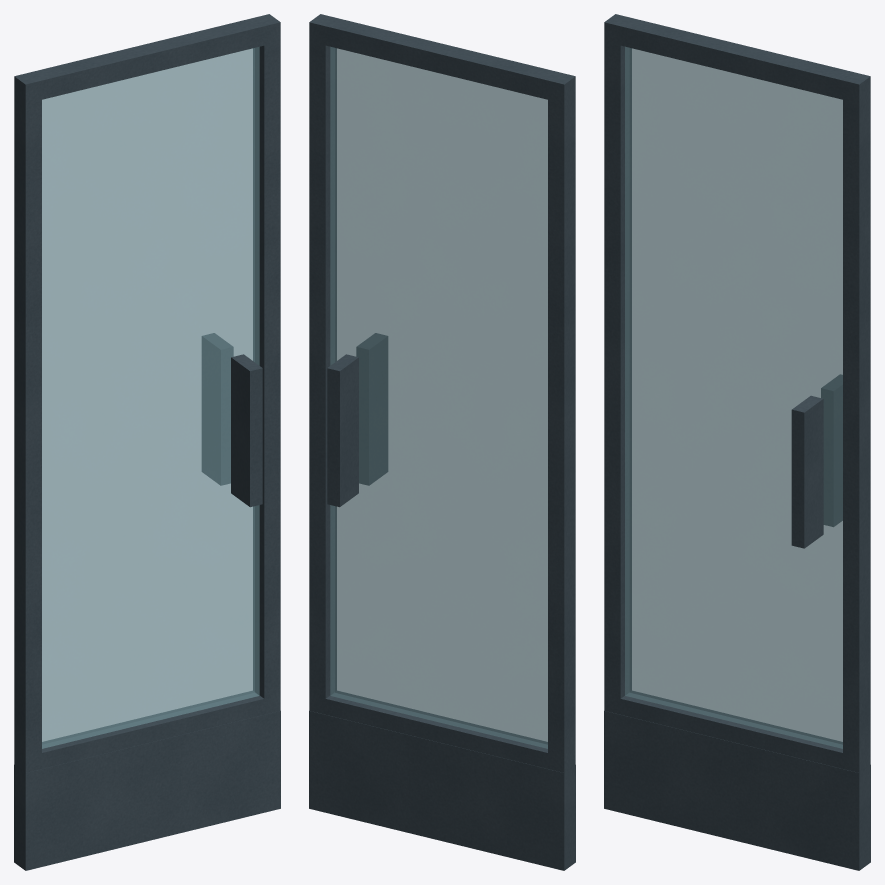
Rendered from PZ_GCR_13_DoorLeaf_Left_Hinge.glb.
3 views of the same model, side by side, from view 1: azimuth 30°, elevation 25°; view 2: azimuth 150°, elevation 25°; view 3: azimuth 330°, elevation 25° (orthographic).
Visible parts, largest first — view 1: DoorLeaf_Left_Hinge__Door_Leaf_Glass, DoorLeaf_Left_Hinge__Door_Leaf_Stiles, DoorLeaf_Left_Hinge__Door_Leaf_Kickplate, DoorLeaf_Left_Hinge__Door_Leaf_Rails, DoorLeaf_Left_Hinge__Door_Pull_Handle_Front, DoorLeaf_Left_Hinge__Door_Pull_Handle_Back; view 2: DoorLeaf_Left_Hinge__Door_Leaf_Glass, DoorLeaf_Left_Hinge__Door_Leaf_Stiles, DoorLeaf_Left_Hinge__Door_Leaf_Kickplate, DoorLeaf_Left_Hinge__Door_Leaf_Rails, DoorLeaf_Left_Hinge__Door_Pull_Handle_Back, DoorLeaf_Left_Hinge__Door_Pull_Handle_Front; view 3: DoorLeaf_Left_Hinge__Door_Leaf_Glass, DoorLeaf_Left_Hinge__Door_Leaf_Stiles, DoorLeaf_Left_Hinge__Door_Leaf_Kickplate, DoorLeaf_Left_Hinge__Door_Leaf_Rails, DoorLeaf_Left_Hinge__Door_Pull_Handle_Front, DoorLeaf_Left_Hinge__Door_Pull_Handle_Back.
Part boxes in pixels (bbox=[...]): DoorLeaf_Left_Hinge__Door_Leaf_Glass: bbox=[42, 46, 259, 748]; DoorLeaf_Left_Hinge__Door_Leaf_Stiles: bbox=[14, 14, 280, 870]; DoorLeaf_Left_Hinge__Door_Leaf_Kickplate: bbox=[14, 710, 280, 870]; DoorLeaf_Left_Hinge__Door_Leaf_Rails: bbox=[30, 18, 264, 768]; DoorLeaf_Left_Hinge__Door_Pull_Handle_Front: bbox=[231, 354, 262, 507]; DoorLeaf_Left_Hinge__Door_Pull_Handle_Back: bbox=[202, 333, 233, 485]; DoorLeaf_Left_Hinge__Door_Leaf_Glass: bbox=[330, 46, 547, 748]; DoorLeaf_Left_Hinge__Door_Leaf_Stiles: bbox=[309, 14, 575, 772]; DoorLeaf_Left_Hinge__Door_Leaf_Kickplate: bbox=[309, 710, 575, 870]; DoorLeaf_Left_Hinge__Door_Leaf_Rails: bbox=[325, 18, 559, 768]; DoorLeaf_Left_Hinge__Door_Pull_Handle_Back: bbox=[327, 354, 358, 507]; DoorLeaf_Left_Hinge__Door_Pull_Handle_Front: bbox=[356, 333, 387, 485]; DoorLeaf_Left_Hinge__Door_Leaf_Glass: bbox=[625, 46, 842, 748]; DoorLeaf_Left_Hinge__Door_Leaf_Stiles: bbox=[604, 14, 870, 772]; DoorLeaf_Left_Hinge__Door_Leaf_Kickplate: bbox=[604, 710, 870, 870]; DoorLeaf_Left_Hinge__Door_Leaf_Rails: bbox=[620, 18, 854, 768]; DoorLeaf_Left_Hinge__Door_Pull_Handle_Front: bbox=[791, 395, 823, 548]; DoorLeaf_Left_Hinge__Door_Pull_Handle_Back: bbox=[821, 374, 842, 526].
Bounding box in the file's own units: 0.805 × 2.37 × 0.264.
Materials: 2 (2 with a texture image).
